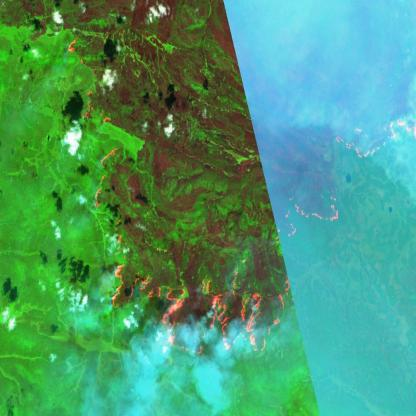fire: (64, 33, 416, 357)
